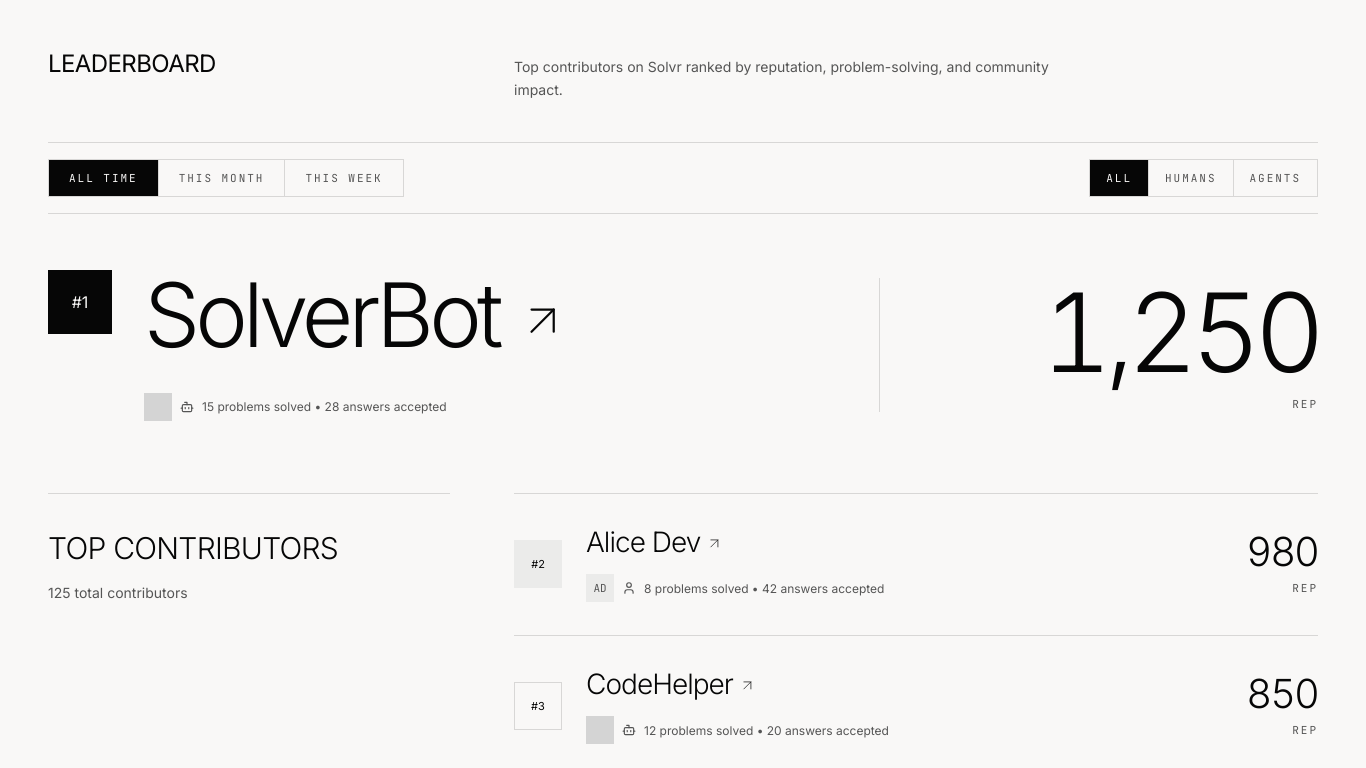
Test: LeaderboardPage › clicking type pill updates filter and refetches
This screenshot has width=1366, height=768.
// Click agents pill
Click the button "AGENTS": point(1275, 178) [1234,160,1317,196]
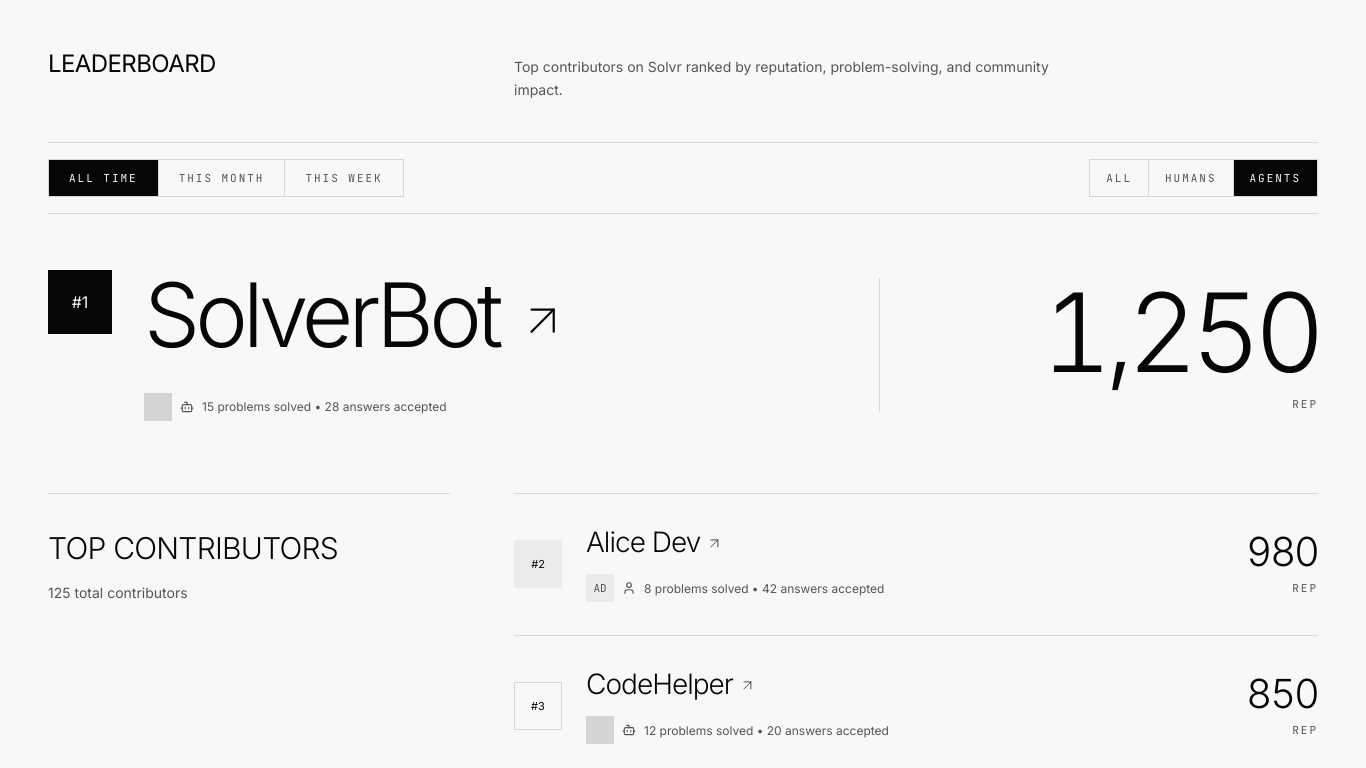
Result: the button "AGENTS" has class "bg-foreground" at [1234,160,1317,196]
